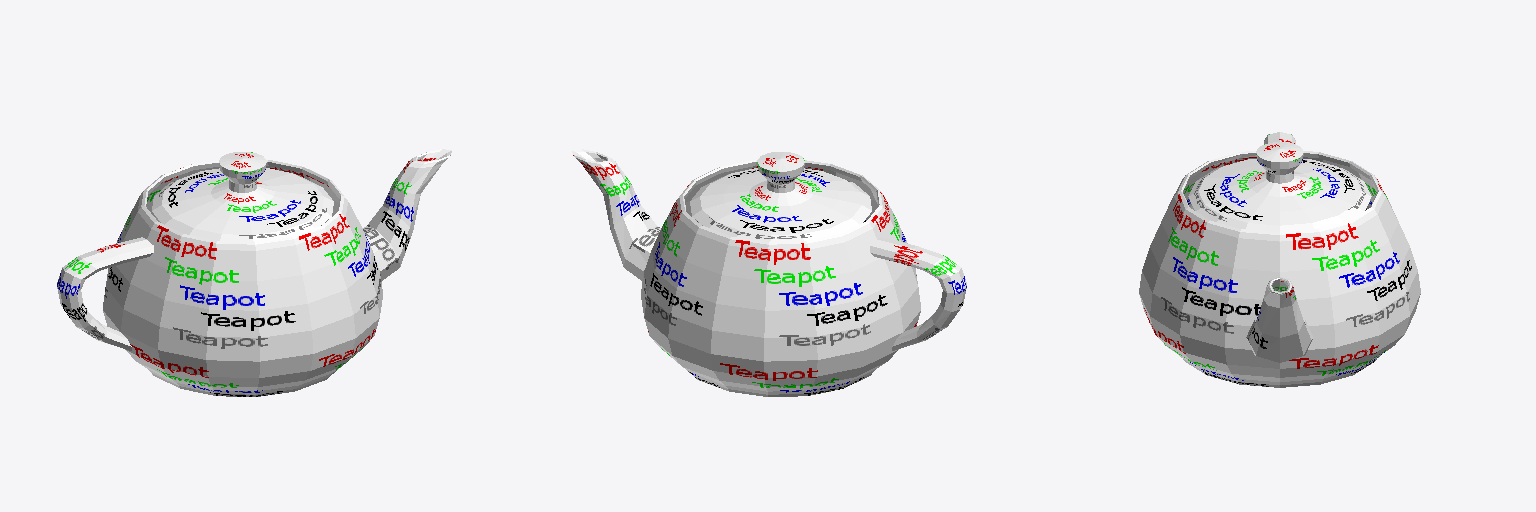
3 views of the same model, side by side, from view 1: azimuth 30°, elevation 25°; view 2: azimuth 150°, elevation 25°; view 3: azimuth 270°, elevation 25° (orthographic).
Visible parts, largest first — view 1: Teapot01; view 2: Teapot01; view 3: Teapot01.
Part boxes in pixels (x1,y1,x2,y2): Teapot01: (57,149,451,396); Teapot01: (572,149,966,396); Teapot01: (1139,132,1420,387).
Bounding box in the file's own units: 65.69 × 32.19 × 40.88.
1 materials, 1 textured.